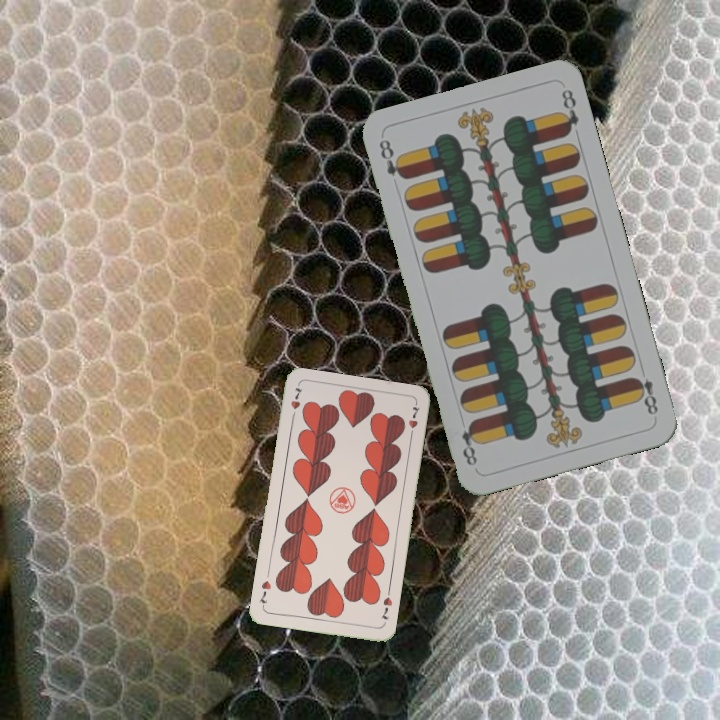E8: (375, 135, 409, 182), (629, 373, 661, 418)
H7: (286, 382, 305, 422), (377, 593, 395, 622)
